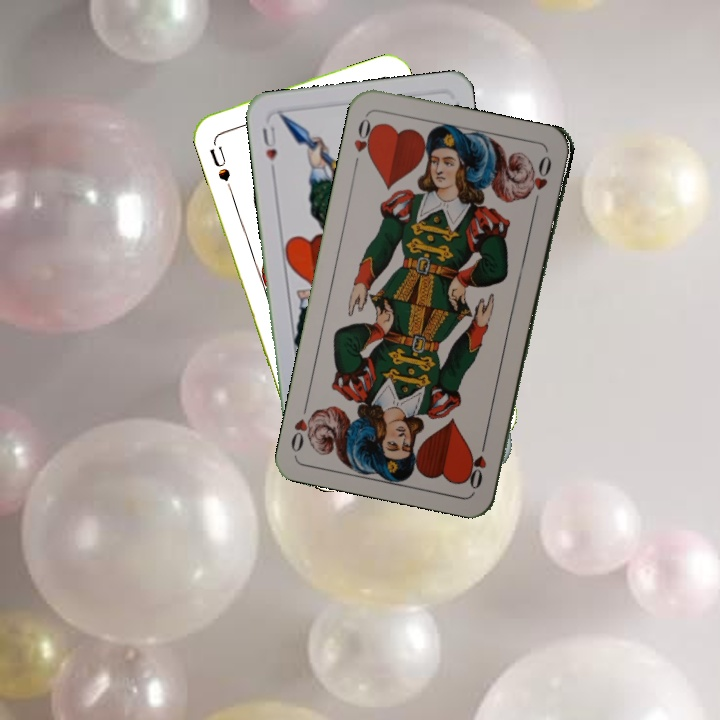HO: (349, 112, 380, 171), (466, 433, 490, 492)
HU: (258, 122, 280, 176)
SU: (206, 134, 233, 184)
